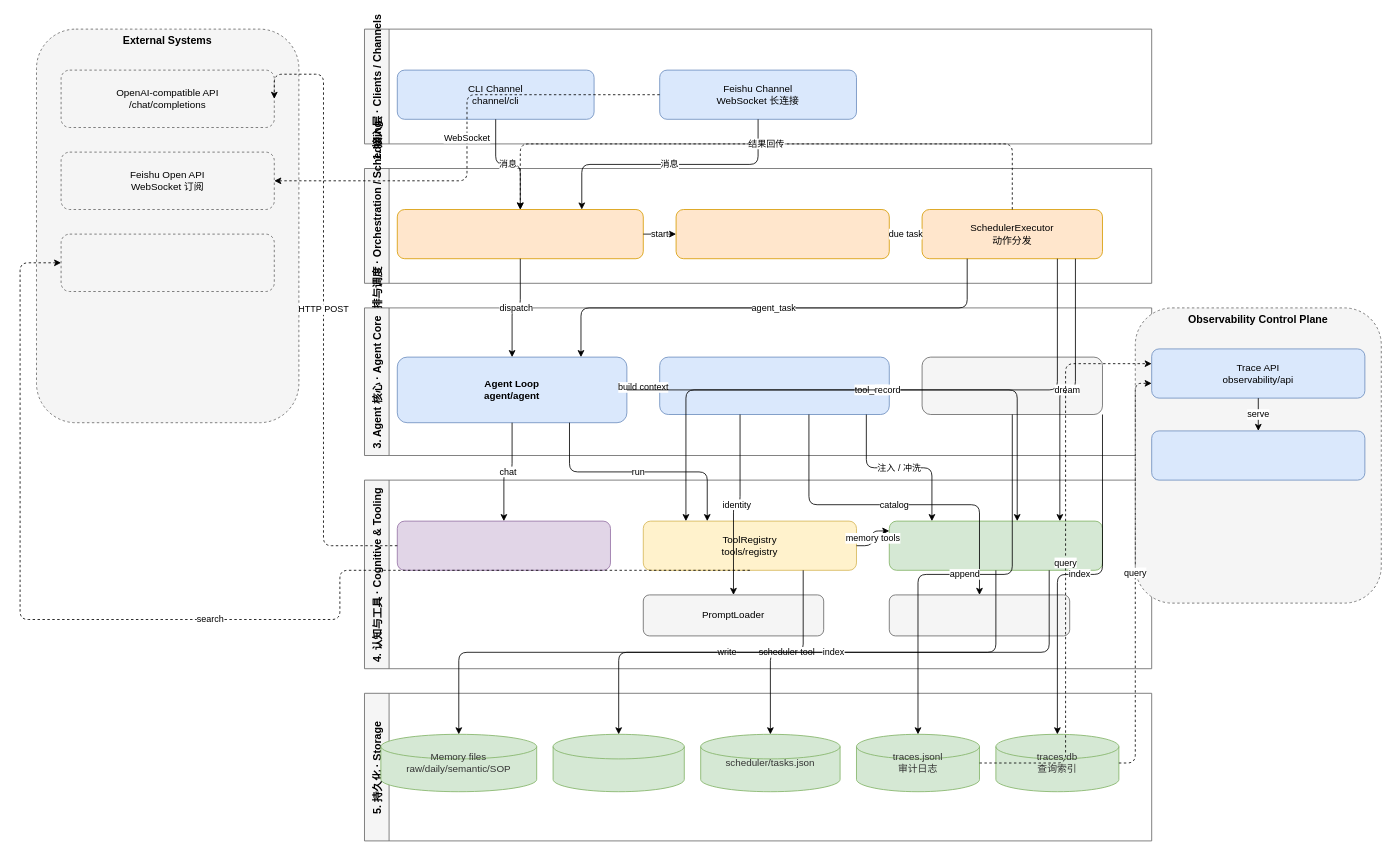
Some shapes in this 1396 by 856 pixel diagram are drawn without their labels. The shapes that lost their labels are listed below. From the top down, each one's centre as x and y in pixels, then its label:
the point at 519,234: ChannelManager channel/manager
the point at 782,234: SchedulerService 后台扫描线程
the point at 167,262: Baidu Qianfan Search web_search
the point at 774,385: ContextManager 会话上下文 / 裁剪
the point at 1011,385: RunContext + Trace 进程内可观测
the point at 1258,455: Trace Explorer Web 面板
the point at 503,545: OpenAICompatibleClient llm/openai_client
the point at 995,545: MemoryManager memory/manager
the point at 979,615: SkillLoader
the point at 618,762: memory/index.db SQLite FTS
